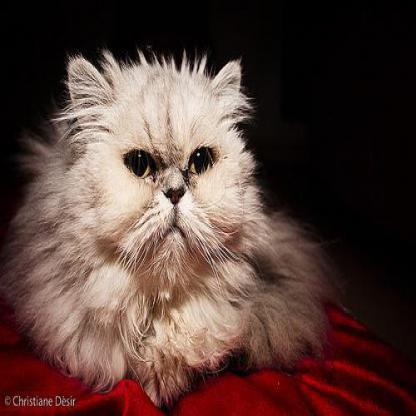cat: (10, 51, 317, 405)
